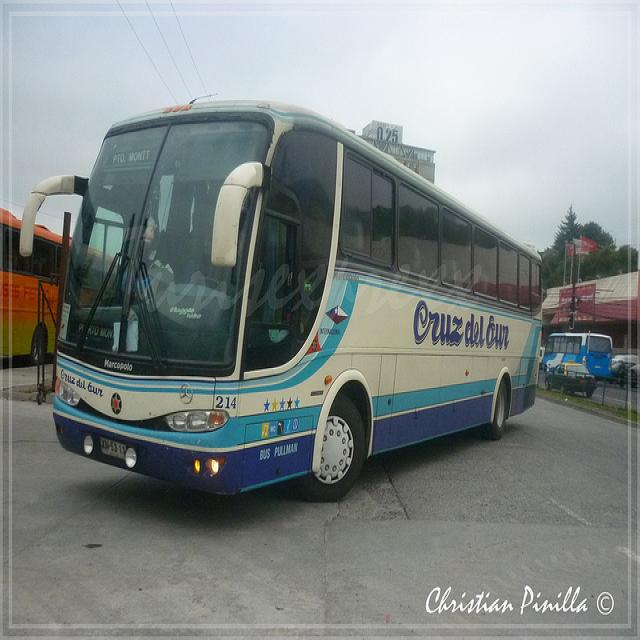Vehicle: (22, 100, 542, 504), (0, 212, 71, 366), (540, 332, 615, 378), (544, 362, 598, 399), (607, 363, 636, 389)
